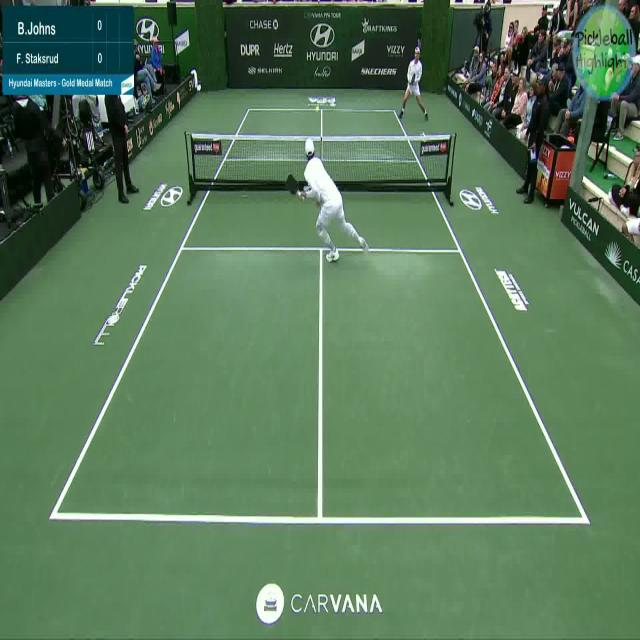Court: (52, 113, 585, 519)
ball: (315, 105, 321, 114)
